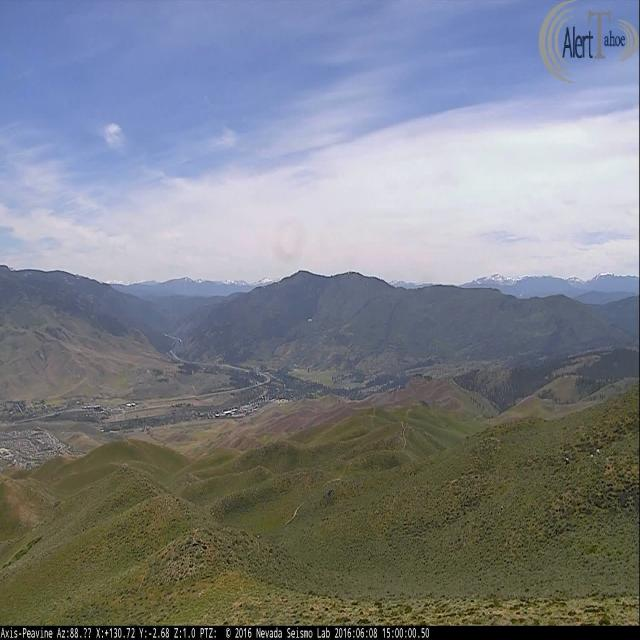smoke: (518, 293, 522, 298)
